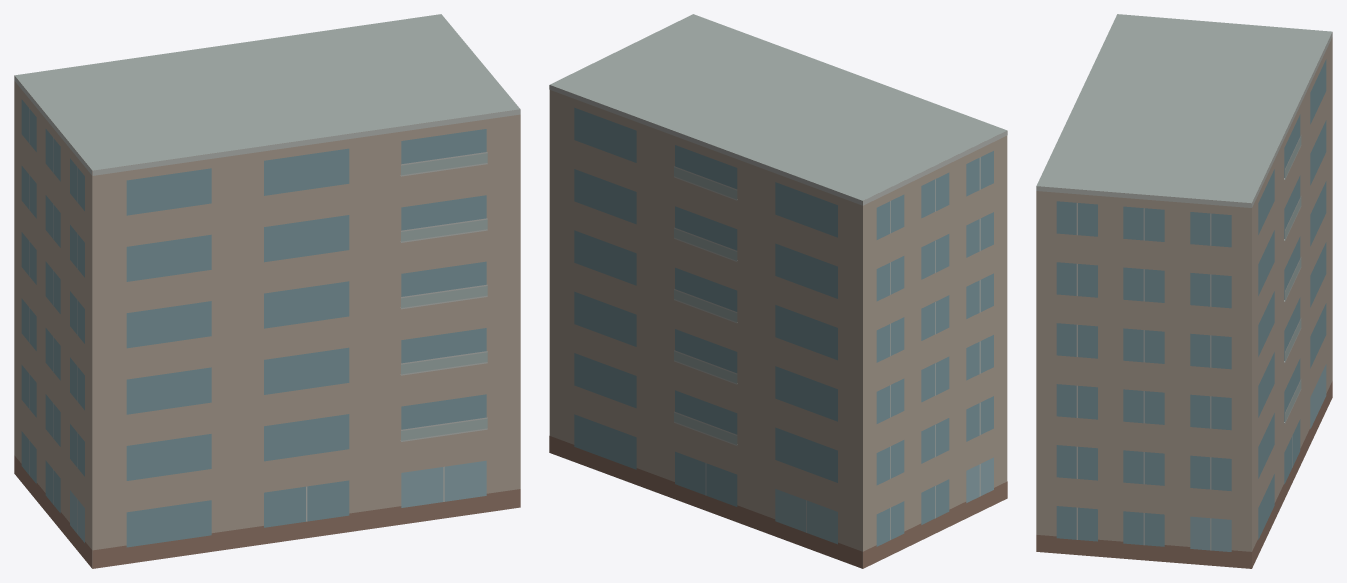
The model's file is survey-upis-32528026.glb.
The picture shows the model from 3 angles, left to right: view 1: azimuth 30°, elevation 25°; view 2: azimuth 150°, elevation 25°; view 3: azimuth 270°, elevation 25°; orthographic projection. The views are drawn at different scales.
Visible parts, largest first — view 1: survey-upis-32528026.tmp; view 2: survey-upis-32528026.tmp; view 3: survey-upis-32528026.tmp.
Part boxes in pixels (x1,y1,x2,y2): survey-upis-32528026.tmp: [14, 14, 520, 568]; survey-upis-32528026.tmp: [549, 14, 1007, 568]; survey-upis-32528026.tmp: [1036, 14, 1332, 568].
Size of the model in its own units: 20.32 by 18.3 by 13.45.
